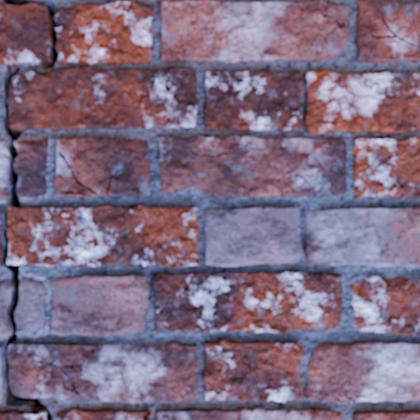brick: (204, 70, 419, 133), (10, 67, 197, 130), (160, 0, 347, 62), (8, 205, 198, 266), (159, 135, 346, 196), (152, 272, 342, 332), (8, 342, 197, 401), (304, 341, 419, 401), (305, 208, 419, 266), (203, 340, 304, 401), (56, 1, 153, 64), (51, 275, 148, 335), (204, 207, 301, 266), (54, 138, 149, 196), (353, 137, 419, 197), (351, 276, 419, 334), (356, 1, 419, 62), (0, 4, 50, 63), (156, 408, 342, 419), (54, 407, 148, 419), (353, 411, 419, 419), (0, 410, 45, 419), (0, 347, 2, 402), (0, 240, 1, 265)
broken_brick: (16, 138, 48, 197), (16, 276, 46, 335), (0, 279, 10, 338), (0, 140, 8, 200)
crack: (1, 0, 58, 419), (296, 2, 344, 44), (371, 7, 419, 47), (58, 151, 98, 196), (164, 67, 186, 111), (137, 68, 158, 105), (314, 389, 361, 403), (105, 169, 119, 195), (61, 191, 89, 196), (143, 411, 150, 419), (0, 44, 3, 51)
